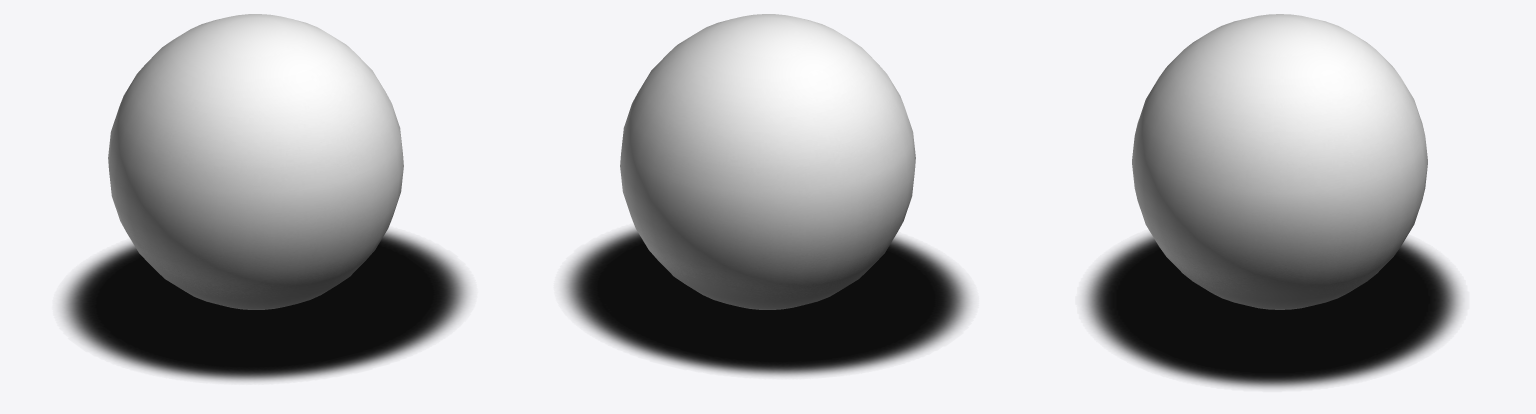
3 renders of one model, left to right at view 1: azimuth 30°, elevation 25°; view 2: azimuth 150°, elevation 25°; view 3: azimuth 270°, elevation 25°, orthographic.
Visible parts, largest first — view 1: ball, fakeshadow; view 2: ball, fakeshadow; view 3: ball, fakeshadow.
Boxes of the visible parts, x1,y1,x2,y2 form: ball: (108, 14, 403, 309); fakeshadow: (61, 230, 468, 381); ball: (620, 14, 915, 309); fakeshadow: (562, 227, 970, 375); ball: (1132, 14, 1427, 309); fakeshadow: (1083, 233, 1461, 387).
Size of the model in its own units: 24.89 by 15.33 by 24.89.
Materials: 2 (2 with a texture image).
